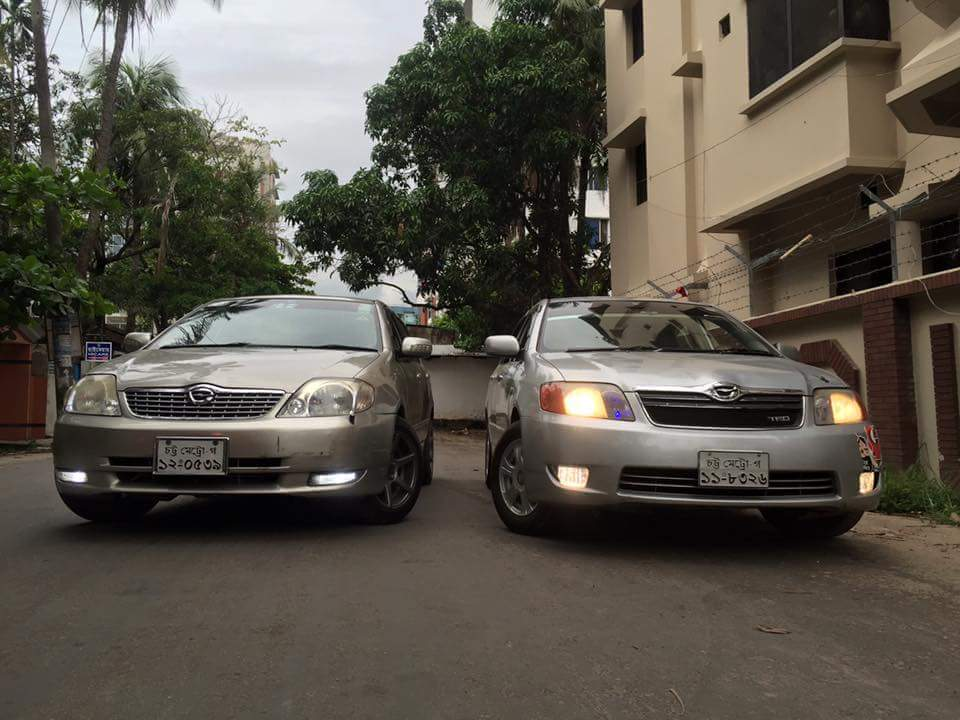registration_plate: (698, 451, 769, 488), (157, 439, 223, 474)
